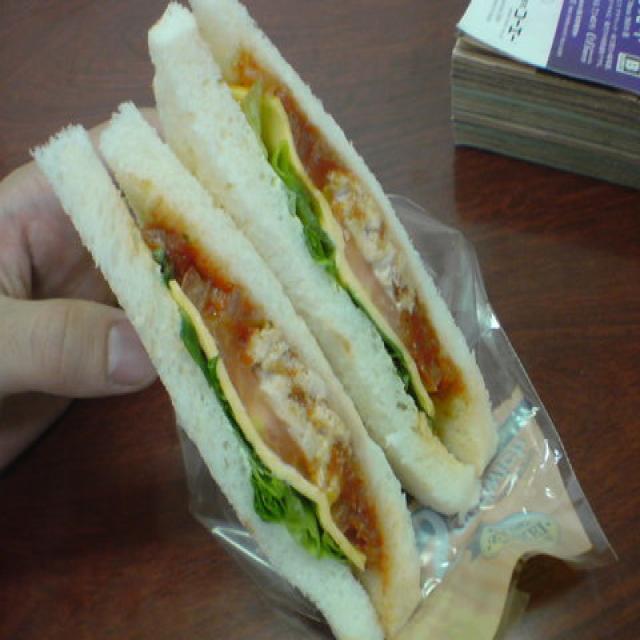三明治: (32, 12, 536, 624)
